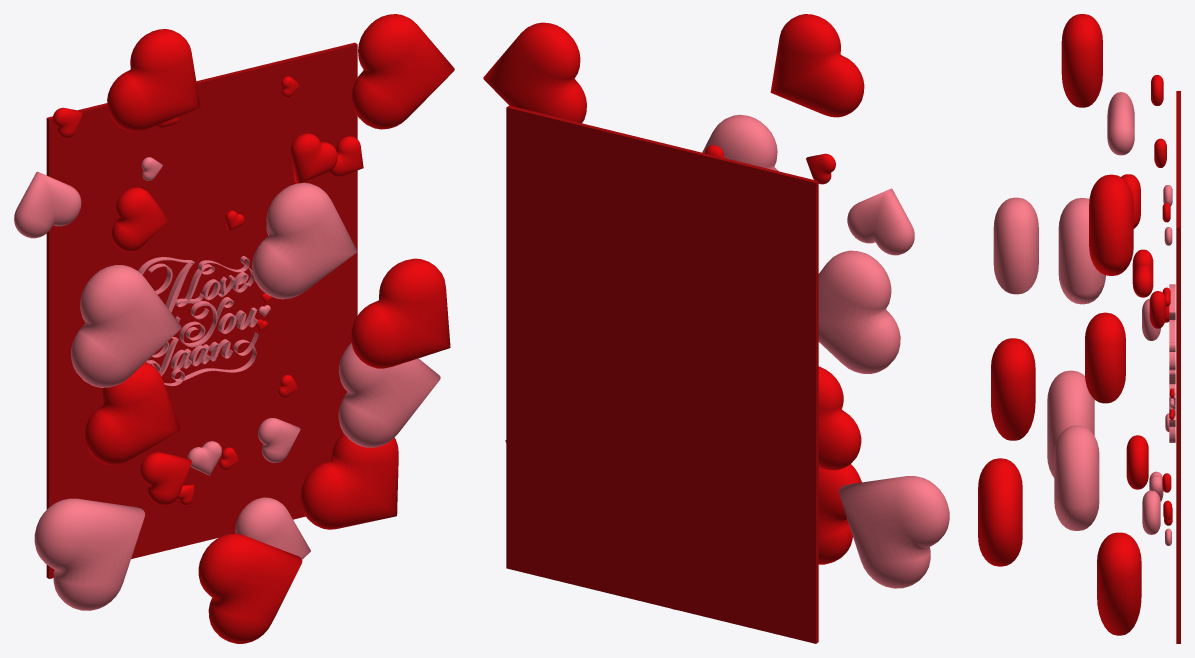
The model's file is hearts_of_jaan_anim_2.gltf.
The picture shows the model from 3 angles, left to right: view 1: azimuth 30°, elevation 25°; view 2: azimuth 150°, elevation 25°; view 3: azimuth 270°, elevation 25°; orthographic projection. The views are drawn at different scales.
Parts seen in each view (by area): view 1: base, heartOriginal.023, heartOriginal.024, heartOriginal.020, heartOriginal.015, heartOriginal.018, heartOriginal.019, heartOriginal.016, heartOriginal.011, heartOriginal.021, heartOriginal.002, heartOriginal.025 (+11 smaller); view 2: base, heartOriginal.023, heartOriginal.024, heartOriginal.019, heartOriginal.011, heartOriginal.002, heartOriginal.025, heartOriginal.018, heartOriginal.020, heartOriginal.012; view 3: heartOriginal.018, heartOriginal.021, heartOriginal.019, heartOriginal.016, heartOriginal.015, heartOriginal.020, heartOriginal.024, heartOriginal.011, heartOriginal.002, heartOriginal.023, base, heartOriginal.025 (+9 smaller).
Boxes of the visible parts, x1,y1,x2,y2 form: base: (46,42,357,578); heartOriginal.023: (34,498,144,610); heartOriginal.024: (71,265,181,387); heartOriginal.020: (252,182,357,299); heartOriginal.015: (351,258,450,368); heartOriginal.018: (198,533,302,643); heartOriginal.019: (351,14,454,129); heartOriginal.016: (300,433,398,529); heartOriginal.011: (107,29,200,131); heartOriginal.021: (338,343,440,447); heartOriginal.002: (84,362,180,465); heartOriginal.025: (14,171,81,238); base: (506,105,818,643); heartOriginal.023: (839,476,949,588); heartOriginal.024: (818,250,900,373); heartOriginal.019: (483,22,586,123); heartOriginal.011: (770,14,864,117); heartOriginal.002: (818,366,861,470); heartOriginal.025: (847,188,914,255); heartOriginal.018: (818,464,861,564); heartOriginal.020: (702,114,778,171); heartOriginal.012: (806,153,835,184); heartOriginal.018: (978,458,1022,566); heartOriginal.021: (1054,425,1099,530); heartOriginal.019: (1089,174,1133,275); heartOriginal.016: (1097,532,1141,635); heartOriginal.015: (991,338,1035,440); heartOriginal.020: (993,197,1038,294); heartOriginal.024: (1058,198,1105,304); heartOriginal.011: (1061,14,1102,107); heartOriginal.002: (1085,312,1125,403); heartOriginal.023: (1047,370,1094,477); base: (1176,91,1180,643); heartOriginal.025: (1107,92,1134,155).
Bounding box in the file's own units: 4.96 × 6.56 × 2.2.
